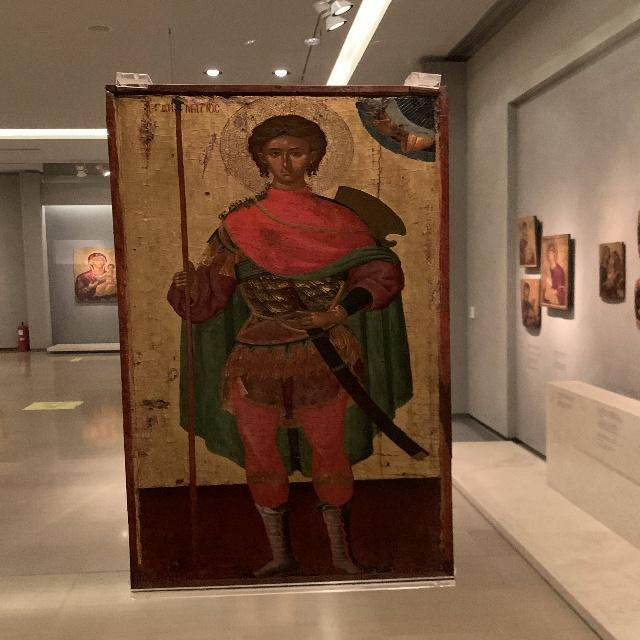armor: (225, 252, 347, 318)
aura: (221, 93, 356, 192)
spear: (167, 98, 208, 573)
st_demetrios: (116, 88, 458, 582)
sword: (293, 294, 439, 465)
